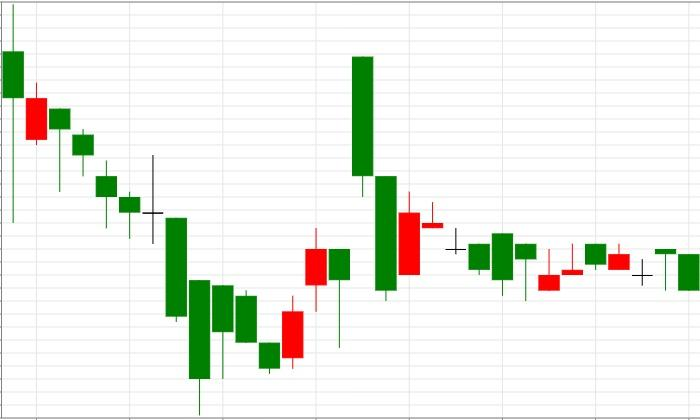hanging_man_fall: (259, 228, 351, 374)
